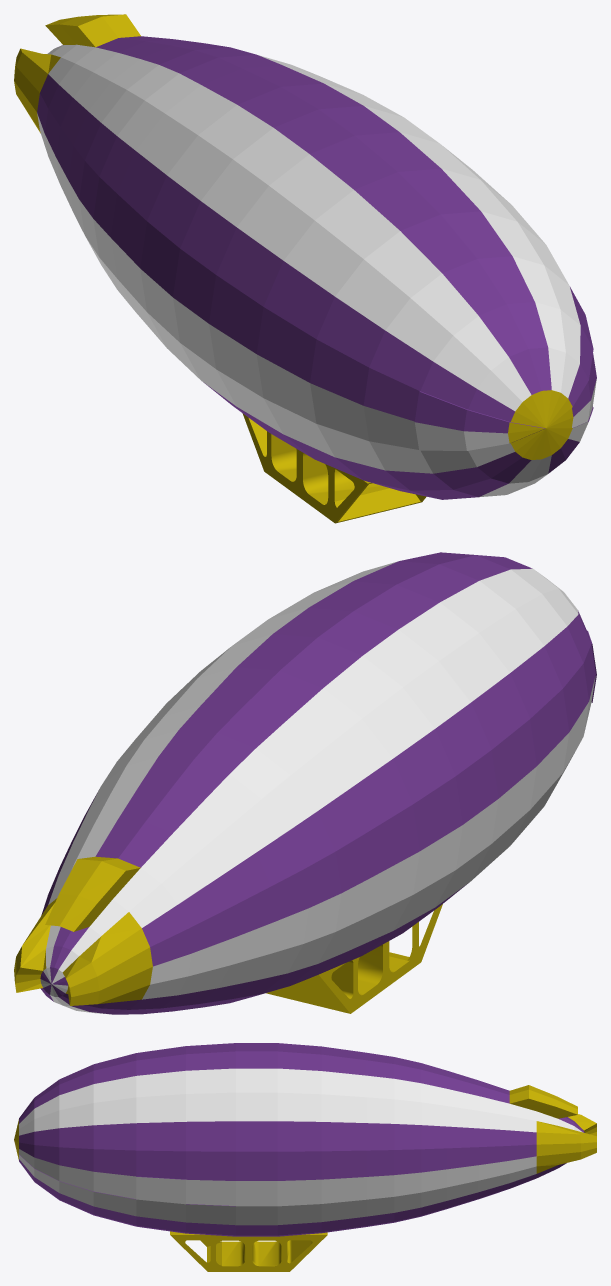
Rendered from ZeppelinV2.fbx.
3 views of the same model, one above another, from view 1: azimuth 30°, elevation 25°; view 2: azimuth 150°, elevation 25°; view 3: azimuth 270°, elevation 25° (orthographic). The views are drawn at different scales.
Visible parts, largest first — view 1: ZeppelinBalloon, ZeppelinCockpit; view 2: ZeppelinBalloon, ZeppelinCockpit; view 3: ZeppelinBalloon, ZeppelinCockpit.
Part boxes in pixels (left/top/right/bottom): ZeppelinBalloon: left=14, top=14, right=596, bottom=499; ZeppelinCockpit: left=242, top=413, right=426, bottom=523; ZeppelinBalloon: left=14, top=552, right=596, bottom=1014; ZeppelinCockpit: left=266, top=904, right=442, bottom=1013; ZeppelinBalloon: left=14, top=1043, right=596, bottom=1236; ZeppelinCockpit: left=170, top=1231, right=327, bottom=1271.
Bounding box in the file's own units: 6.81 × 8.02 × 20.35.
